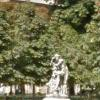Statue: (33, 40, 65, 100)
